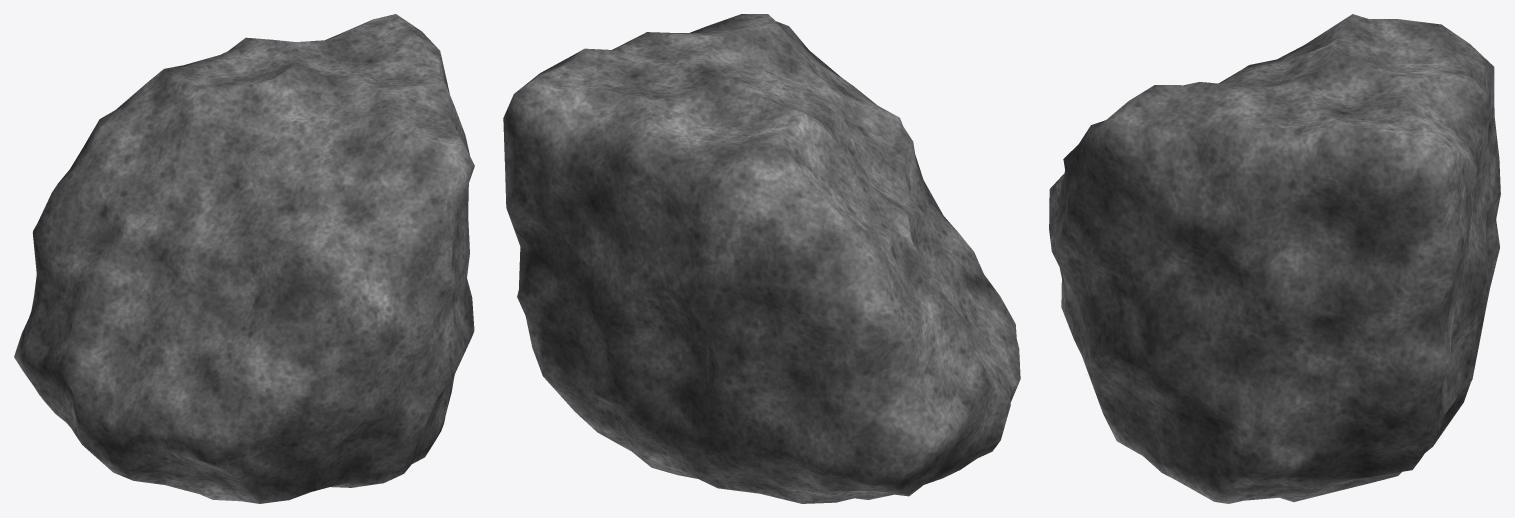
The picture shows the model from 3 angles, left to right: view 1: azimuth 30°, elevation 25°; view 2: azimuth 150°, elevation 25°; view 3: azimuth 270°, elevation 25°; orthographic projection. The views are drawn at different scales.
Parts seen in each view (by area): view 1: rock.001; view 2: rock.001; view 3: rock.001.
Part boxes in pixels (x1,y1,x2,y2): rock.001: (14, 14, 474, 503); rock.001: (503, 14, 1020, 503); rock.001: (1049, 14, 1500, 503).
Size of the model in its own units: 3.82 by 3.48 by 3.25.
1 material, 1 textured.
